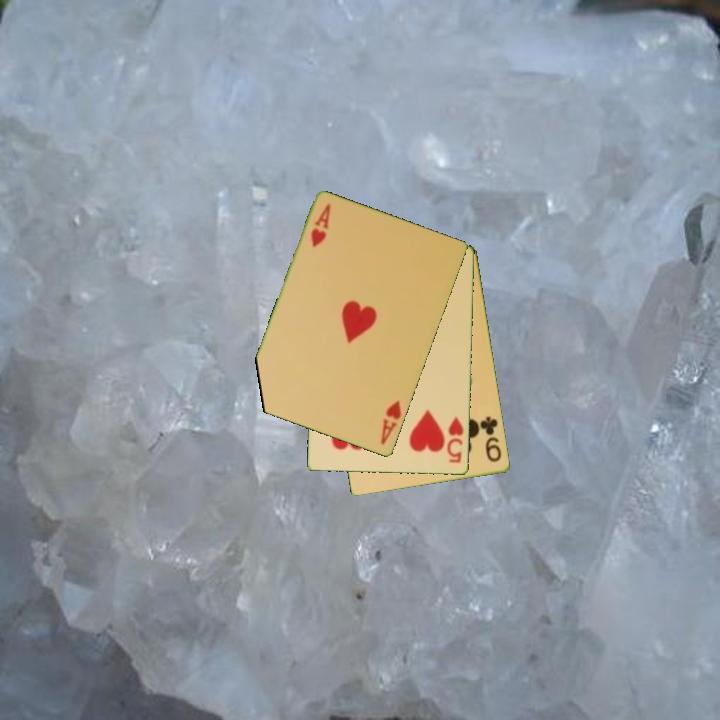5h: (444, 414, 466, 466)
9c: (477, 413, 505, 465)
Ah: (377, 397, 404, 448), (307, 201, 334, 251)
